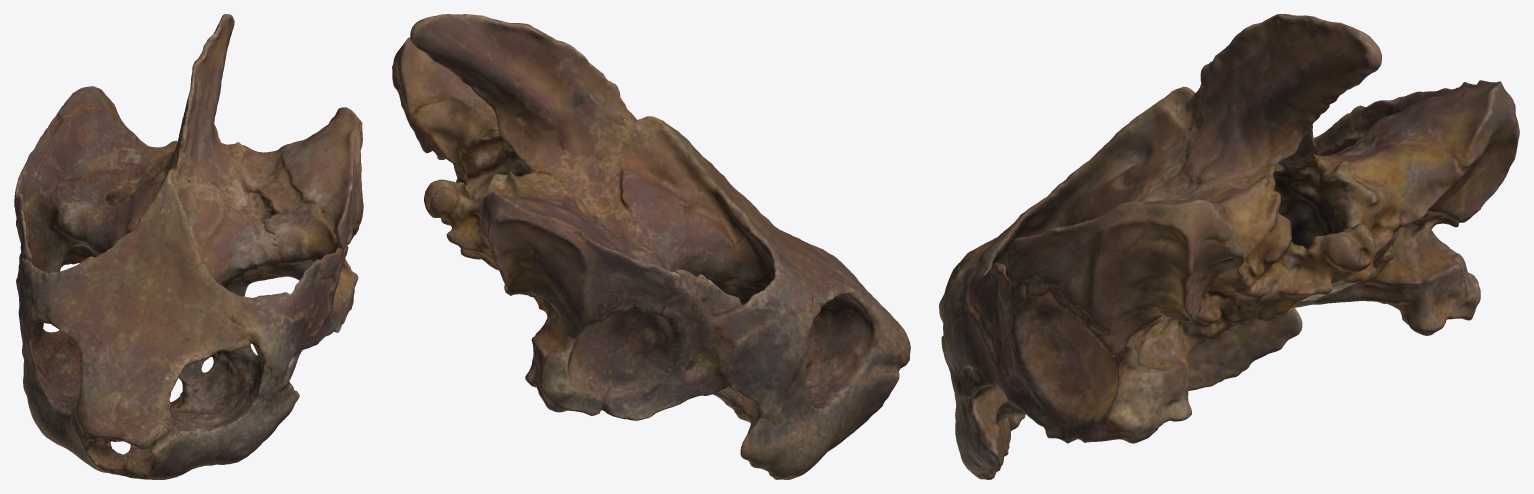
3 renders of one model, left to right at view 1: azimuth 30°, elevation 25°; view 2: azimuth 150°, elevation 25°; view 3: azimuth 270°, elevation 25°, orthographic. The views are drawn at different scales.
Parts seen in each view (by area): view 1: Pseudemys_idahoensis_Gilmore__1933-unwrapped-webmulti; view 2: Pseudemys_idahoensis_Gilmore__1933-unwrapped-webmulti; view 3: Pseudemys_idahoensis_Gilmore__1933-unwrapped-webmulti.
Part boxes in pixels (left/top/right/bottom): Pseudemys_idahoensis_Gilmore__1933-unwrapped-webmulti: left=14, top=14, right=363, bottom=479; Pseudemys_idahoensis_Gilmore__1933-unwrapped-webmulti: left=392, top=14, right=910, bottom=479; Pseudemys_idahoensis_Gilmore__1933-unwrapped-webmulti: left=939, top=14, right=1519, bottom=479.
Size of the model in its own units: 4915 by 4774 by 4649.
1 material, 1 textured.
